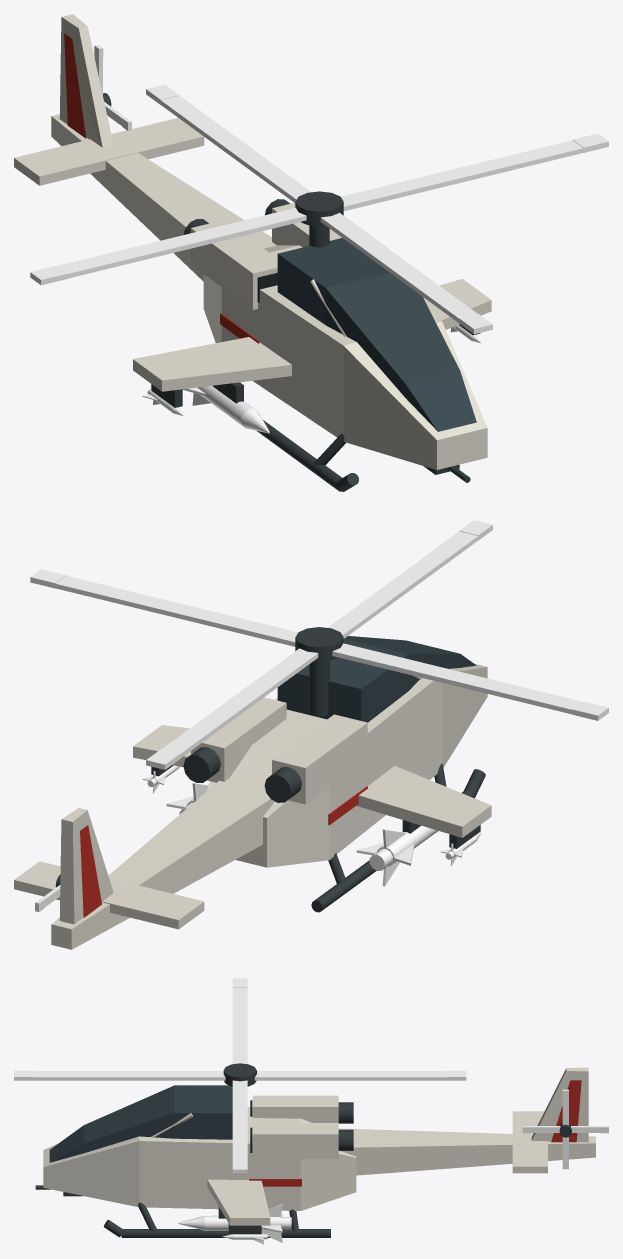
3 views of the same model, one above another, from view 1: azimuth 30°, elevation 25°; view 2: azimuth 150°, elevation 25°; view 3: azimuth 270°, elevation 25° (orthographic). The views are drawn at different scales.
Visible parts, largest first — view 1: helicopter-fleet-armor, helicopter-fleet-glass, blade-arm-2-painted, blade-arm-0-painted, blade-arm-3-painted, blade-arm-1-painted, helicopter-fleet-machine, helicopter-fleet-red, store-left-large-painted, rotor-main-fleet-machine; view 2: helicopter-fleet-armor, helicopter-fleet-glass, helicopter-fleet-machine, blade-arm-2-painted, blade-arm-0-painted, blade-arm-1-painted, blade-arm-3-painted, store-left-large-painted, helicopter-fleet-red, rotor-main-fleet-machine; view 3: helicopter-fleet-armor, helicopter-fleet-glass, helicopter-fleet-machine, blade-arm-1-painted, blade-arm-3-painted, blade-arm-0-painted, blade-arm-2-painted, store-right-large-painted, helicopter-fleet-red, rotor-main-fleet-machine.
Boxes of the visible parts, x1,y1,x2,y2 form: helicopter-fleet-armor: [14, 14, 491, 469]; helicopter-fleet-glass: [277, 238, 476, 431]; blade-arm-2-painted: [30, 208, 306, 285]; blade-arm-0-painted: [341, 133, 608, 211]; blade-arm-3-painted: [320, 212, 492, 334]; blade-arm-1-painted: [146, 84, 311, 202]; helicopter-fleet-machine: [151, 199, 480, 491]; helicopter-fleet-red: [64, 33, 259, 343]; store-left-large-painted: [183, 385, 269, 433]; rotor-main-fleet-machine: [295, 191, 343, 226]; helicopter-fleet-armor: [14, 664, 491, 949]; helicopter-fleet-glass: [277, 636, 476, 722]; helicopter-fleet-machine: [151, 661, 485, 912]; blade-arm-2-painted: [332, 643, 608, 720]; blade-arm-0-painted: [30, 569, 298, 646]; blade-arm-1-painted: [146, 648, 318, 769]; blade-arm-3-painted: [327, 520, 492, 638]; store-left-large-painted: [356, 825, 438, 886]; helicopter-fleet-red: [80, 786, 367, 917]; rotor-main-fleet-machine: [295, 627, 343, 661]; helicopter-fleet-armor: [43, 1067, 595, 1225]; helicopter-fleet-glass: [49, 1085, 232, 1162]; helicopter-fleet-machine: [103, 1102, 353, 1237]; blade-arm-1-painted: [254, 1070, 466, 1080]; blade-arm-3-painted: [14, 1070, 225, 1080]; blade-arm-0-painted: [232, 1080, 247, 1173]; blade-arm-2-painted: [232, 978, 247, 1063]; store-right-large-painted: [178, 1203, 291, 1242]; helicopter-fleet-red: [249, 1080, 581, 1186]; rotor-main-fleet-machine: [223, 1063, 256, 1086].
Size of the model in its own units: 50.42 by 18.06 by 66.32.
